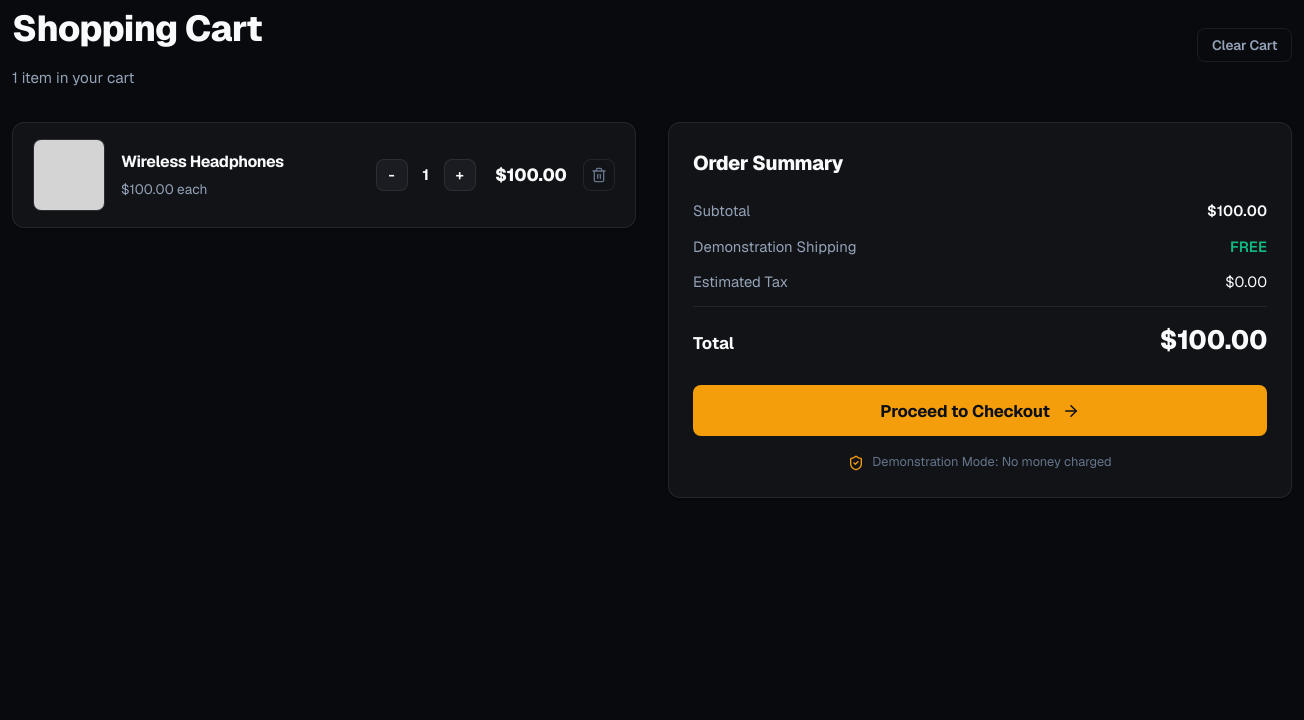
Test: Phase 4: Cart Management Frontend Tests › T-CART-UI-02: Incrementing item quantity updates line total and order summary
Expected: the heading "Wireless Headphones" is shown, [121,151,284,172]
Expected: the text "$100.00 each" is shown, [121,180,207,198]
// Click + button
Step 1. Click the button named "increase quantity" → click(460, 175), box [444,159,476,191]
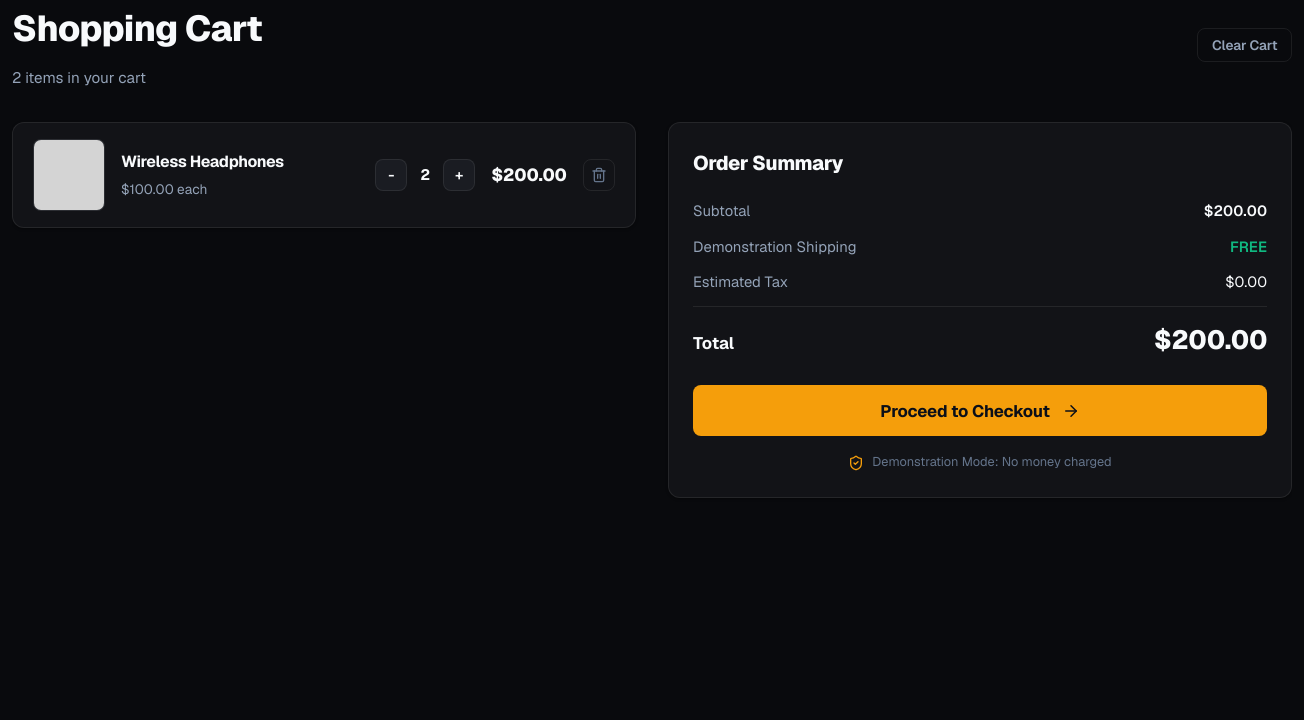
Now the text "2" is shown, box [420,165,430,184]
Now the text "$200.00" in the row of "Wireless Headphones" is shown, box [491,161,567,189]
